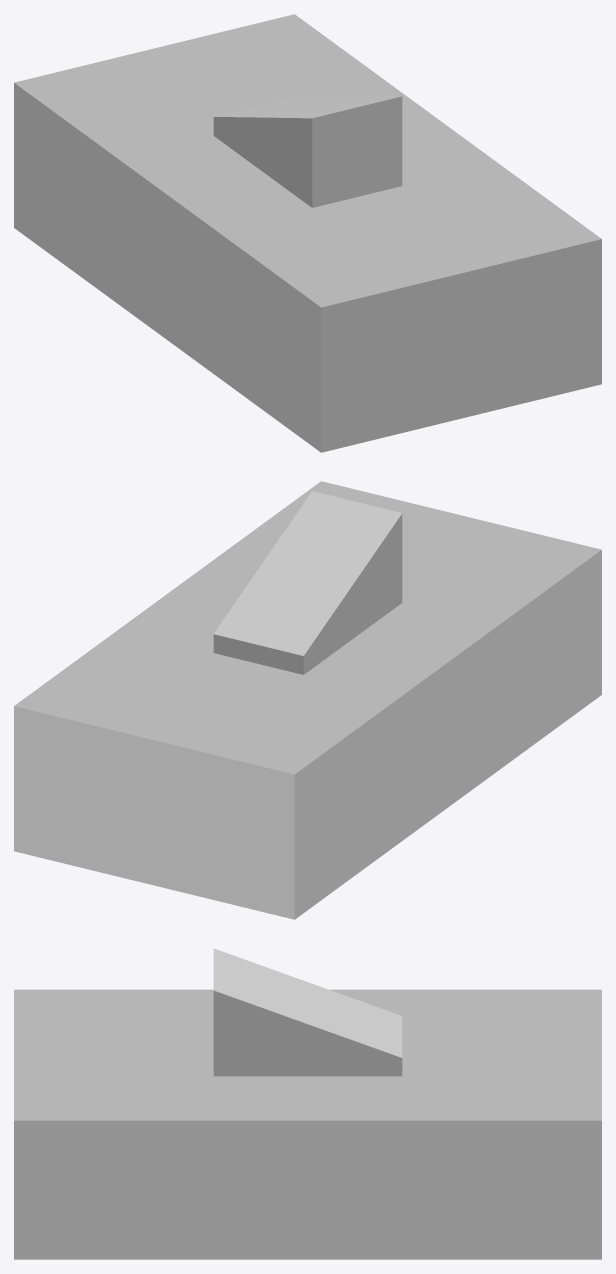
The model's file is LightSwitch.glb.
The picture shows the model from 3 angles, top to bottom: view 1: azimuth 30°, elevation 25°; view 2: azimuth 150°, elevation 25°; view 3: azimuth 270°, elevation 25°; orthographic projection. The views are drawn at different scales.
Visible parts, largest first — view 1: SO_Lightswitch; view 2: SO_Lightswitch; view 3: SO_Lightswitch.
Boxes of the visible parts, x1,y1,x2,y2 form: SO_Lightswitch: (14,14,601,452); SO_Lightswitch: (14,481,601,919); SO_Lightswitch: (14,948,601,1259).
Size of the model in its own units: 0.2671 by 0.2136 by 0.5064.
1 material, 1 textured.
